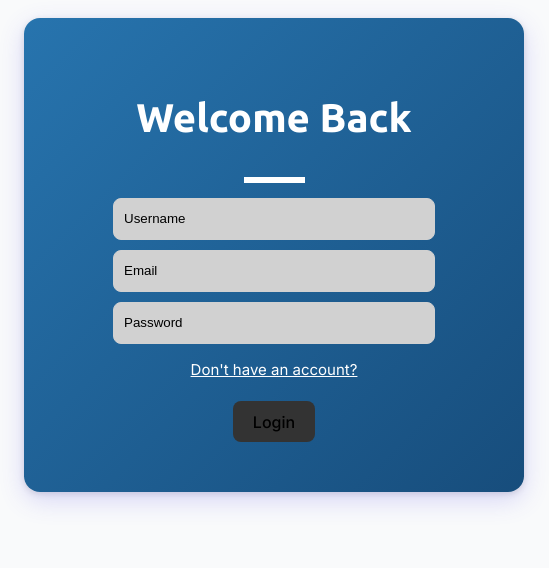
LoginSignup Component › Login Functionality › should display error on failed login
Type "testuser" into the field with placeholder "Username" at x=274, y=219, box top-left (113, 198), bottom-right (435, 240)
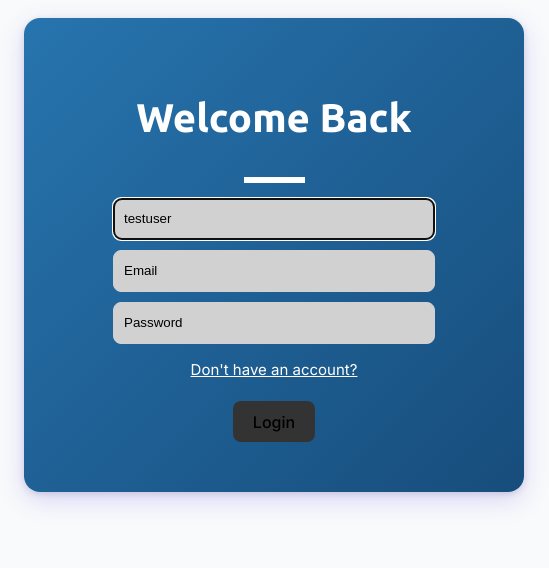
Type "test@example.com" into the field with placeholder "Email" at x=274, y=271, box top-left (113, 250), bottom-right (435, 292)
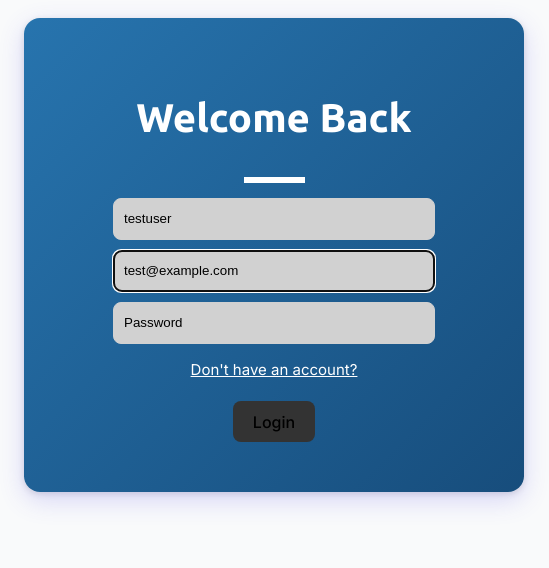
Type "wrongpassword" into the password field with placeholder "Password" at x=274, y=323, box top-left (113, 302), bottom-right (435, 344)
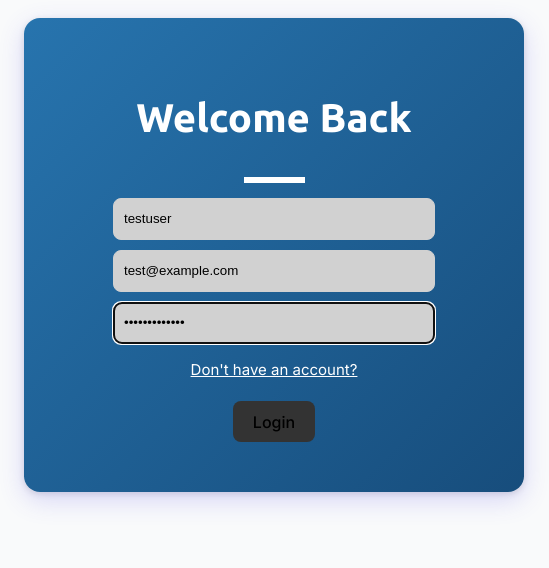
Click the button "Login" at x=274, y=422, box top-left (233, 401), bottom-right (315, 442)
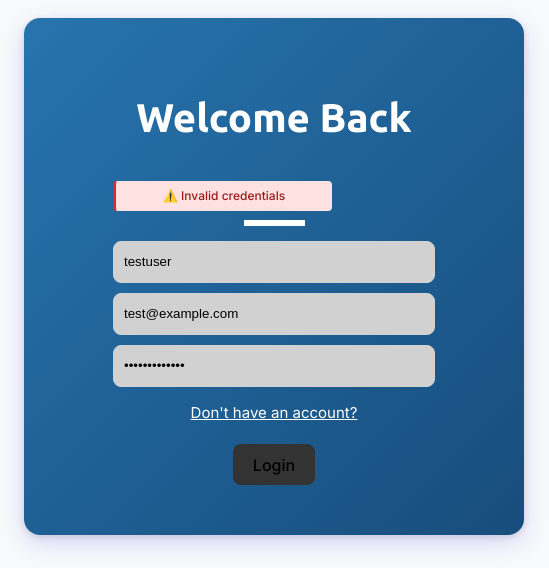
Result: the text "⚠️ Invalid credentials" is shown at top-left (113, 181), bottom-right (332, 211)
